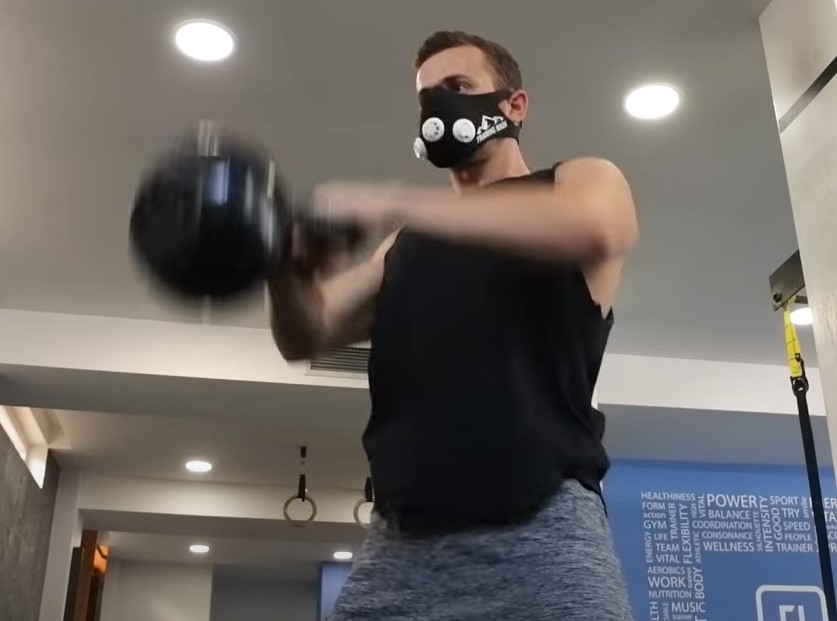face_with_mask: (413, 29, 532, 173)
